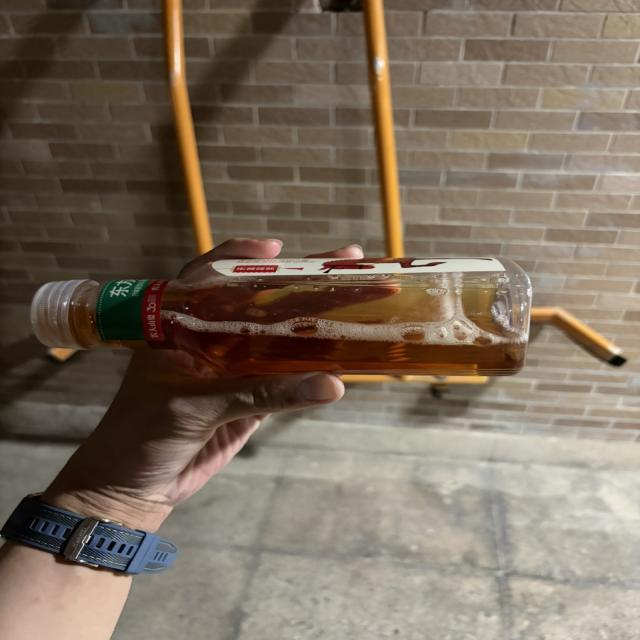medium: (31, 256, 531, 375)
